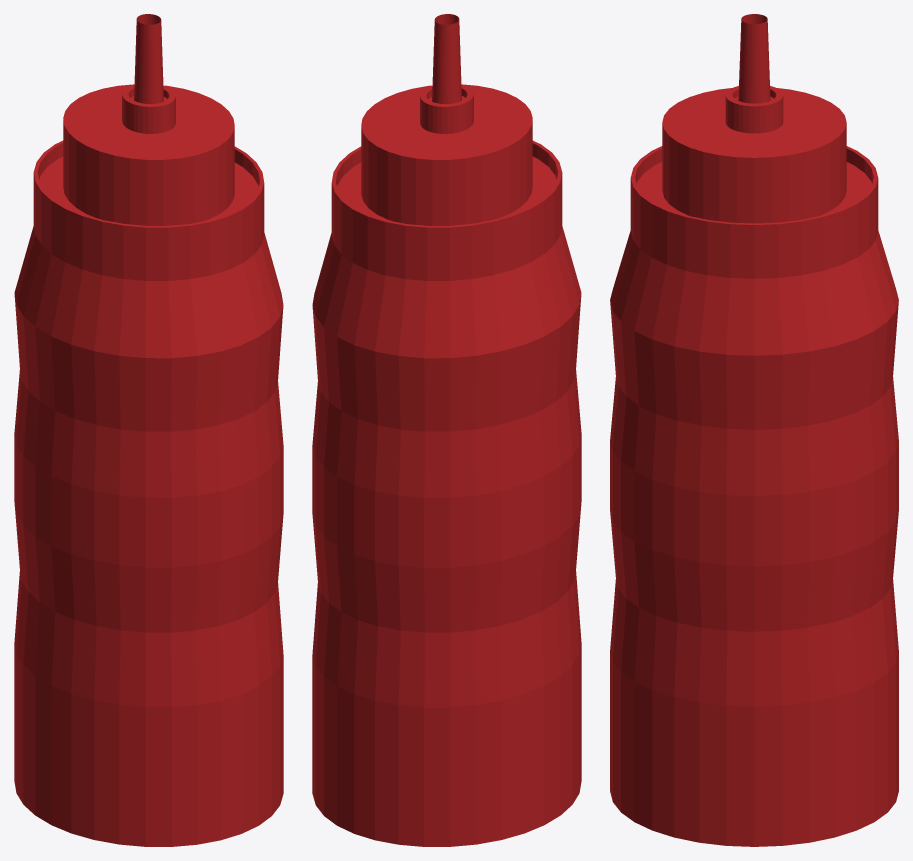
File: Bowl_gochujang.fbx
The picture shows the model from 3 angles, left to right: view 1: azimuth 30°, elevation 25°; view 2: azimuth 150°, elevation 25°; view 3: azimuth 270°, elevation 25°; orthographic projection.
Parts seen in each view (by area): view 1: Bowl_gochujang; view 2: Bowl_gochujang; view 3: Bowl_gochujang.
Part boxes in pixels (x1,y1,x2,y2): Bowl_gochujang: (14,14,283,846); Bowl_gochujang: (312,14,581,846); Bowl_gochujang: (610,14,898,846).
Size of the model in its own units: 42.11 by 136 by 46.08.
